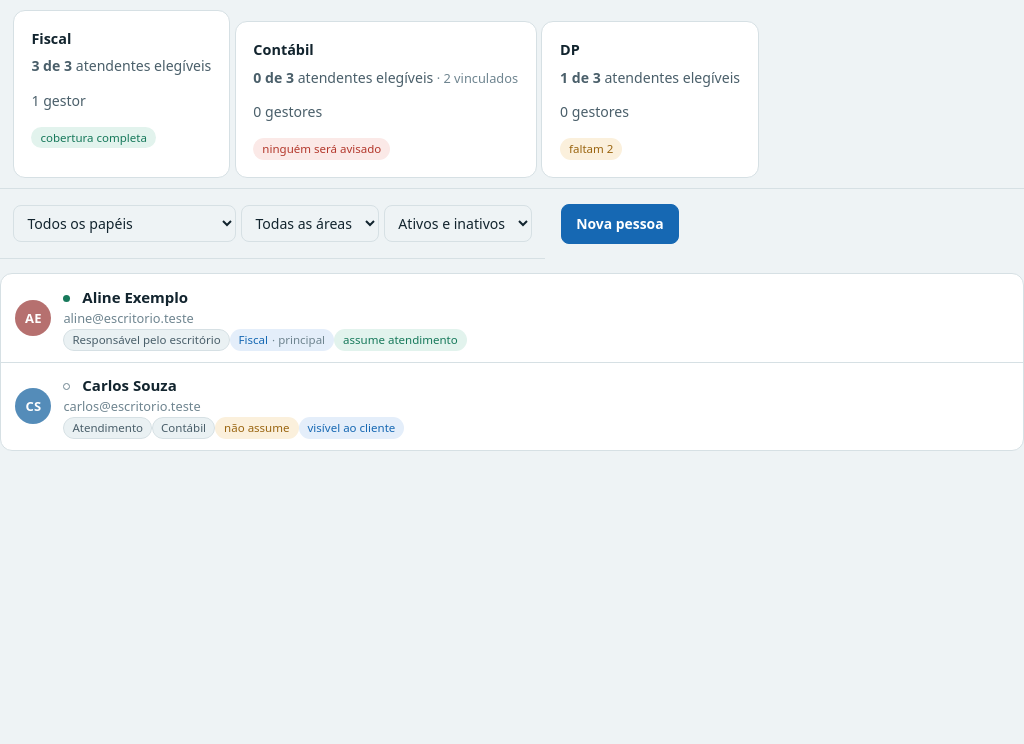
Test case: formulário › editar abre com os valores da pessoa, e e-mail e login travados
The image size is (1024, 744).
Expected: the text "Carlos Souza" is shown, [63, 375, 177, 395]
Step 1. Click the button "Carlos Souza" → {"x": 33, "y": 406}, box [1, 363, 1023, 450]
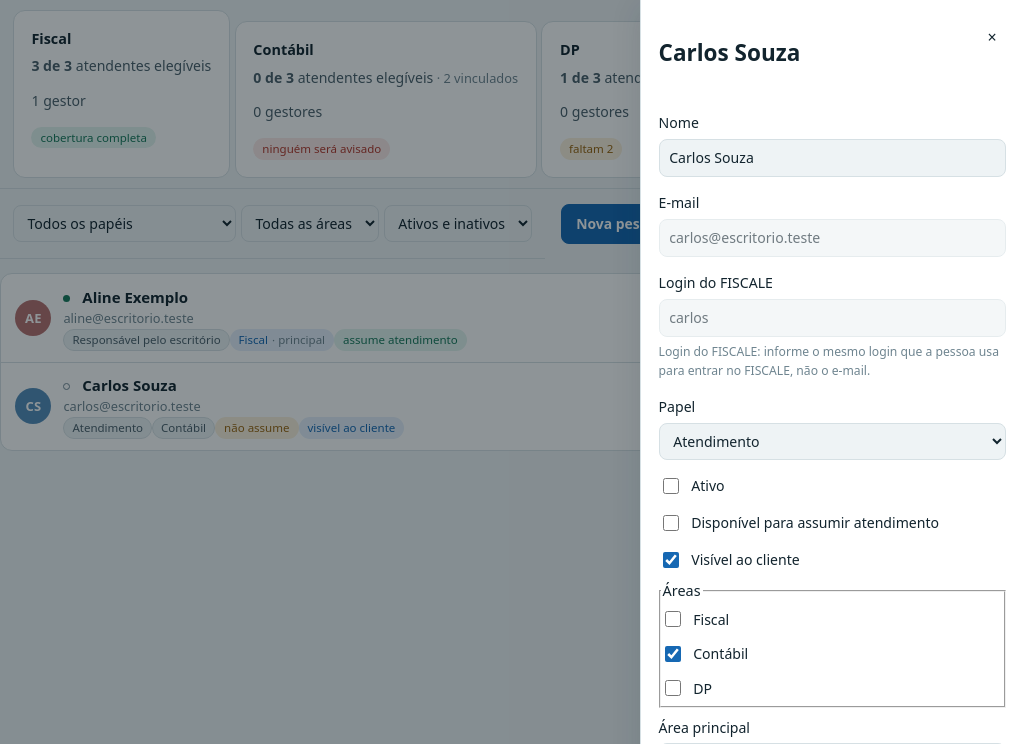
Result: the field labelled "Nome" holds "Carlos Souza" at [659, 139, 1006, 177]
Result: the field labelled "E-mail" is disabled at [659, 219, 1006, 257]
Result: the field labelled "Login do FISCALE" is disabled at [659, 299, 1006, 337]
